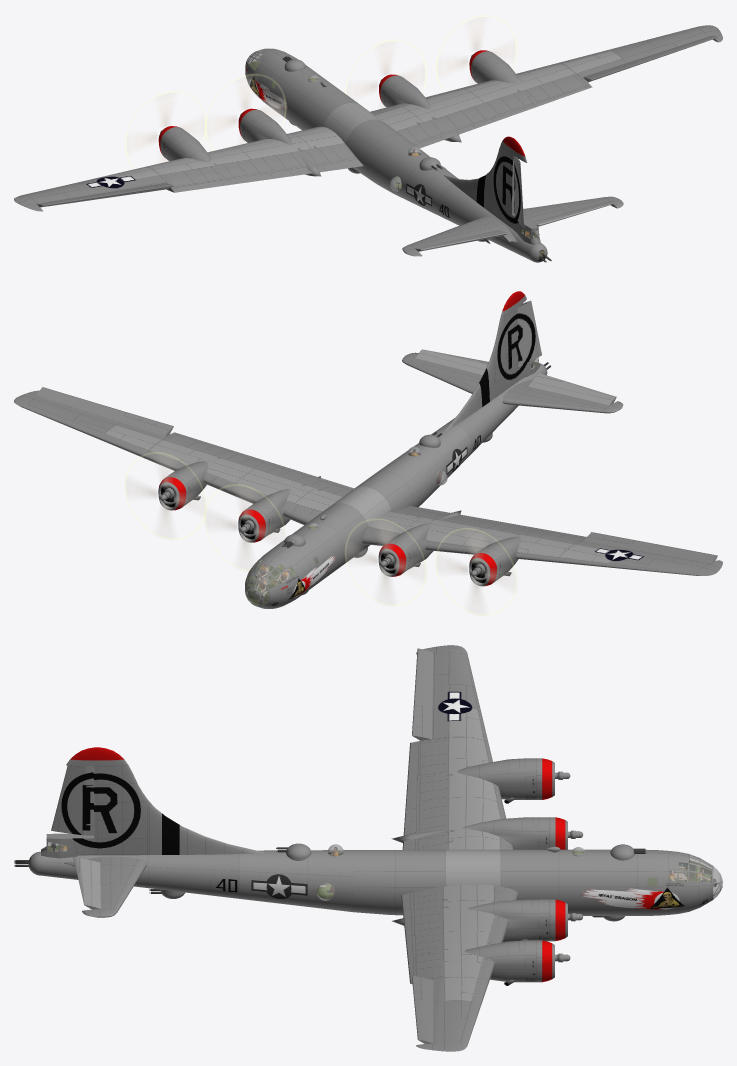
The model's file is b29_flyt_6bg_npa35.glb.
The picture shows the model from 3 angles, top to bottom: view 1: azimuth 30°, elevation 25°; view 2: azimuth 150°, elevation 25°; view 3: azimuth 270°, elevation 25°; orthographic projection. The views are drawn at different scales.
Parts seen in each view (by area): view 1: wingR, wingL, fuse2, tail_vert, fuse3, tail_horz, fuse1, fuse4, prop1, prop3, prop2, engine3 (+9 smaller); view 2: wingR, wingL, fuse2, tail_vert, tail_horz, fuse1, fuse3, prop3, prop1, prop2, tail_elevator, prop4 (+9 smaller); view 3: wingL, fuse2, wingR, tail_vert, fuse1, fuse3, fuse4, engine4, engine1, engine2, engine3, tail_rudder (+6 smaller).
Boxes of the visible parts, <box> form: wingR: <box>370,25,722,148</box>; wingL: <box>14,126,363,211</box>; fuse2: <box>281,73,420,191</box>; tail_vert: <box>444,136,540,244</box>; fuse3: <box>384,147,458,217</box>; tail_horz: <box>402,196,623,256</box>; fuse1: <box>245,48,319,118</box>; fuse4: <box>437,184,541,260</box>; prop1: <box>125,91,206,168</box>; prop3: <box>205,74,286,150</box>; prop2: <box>436,15,516,91</box>; engine3: <box>238,108,321,176</box>; wingR: <box>14,390,353,524</box>; wingL: <box>362,506,722,575</box>; fuse2: <box>292,458,429,578</box>; tail_vert: <box>443,291,540,432</box>; tail_horz: <box>402,352,623,413</box>; fuse1: <box>245,533,328,608</box>; fuse3: <box>393,423,472,499</box>; prop3: <box>345,519,426,605</box>; prop1: <box>435,528,516,615</box>; prop2: <box>125,452,205,539</box>; tail_elevator: <box>415,349,616,405</box>; prop4: <box>205,484,285,571</box>; wingL: <box>402,645,513,849</box>; fuse2: <box>354,849,598,915</box>; wingR: <box>401,884,518,1051</box>; tail_vert: <box>41,747,265,858</box>; fuse1: <box>598,849,713,915</box>; fuse3: <box>239,850,353,912</box>; fuse4: <box>40,852,238,898</box>; engine4: <box>392,899,567,942</box>; engine1: <box>457,758,554,799</box>; engine2: <box>465,940,554,982</box>; engine3: <box>391,817,567,849</box>; tail_rudder: <box>51,765,93,835</box>.
Size of the model in its own units: 139 by 28.65 by 102.
Materials: 41 (30 with a texture image).
